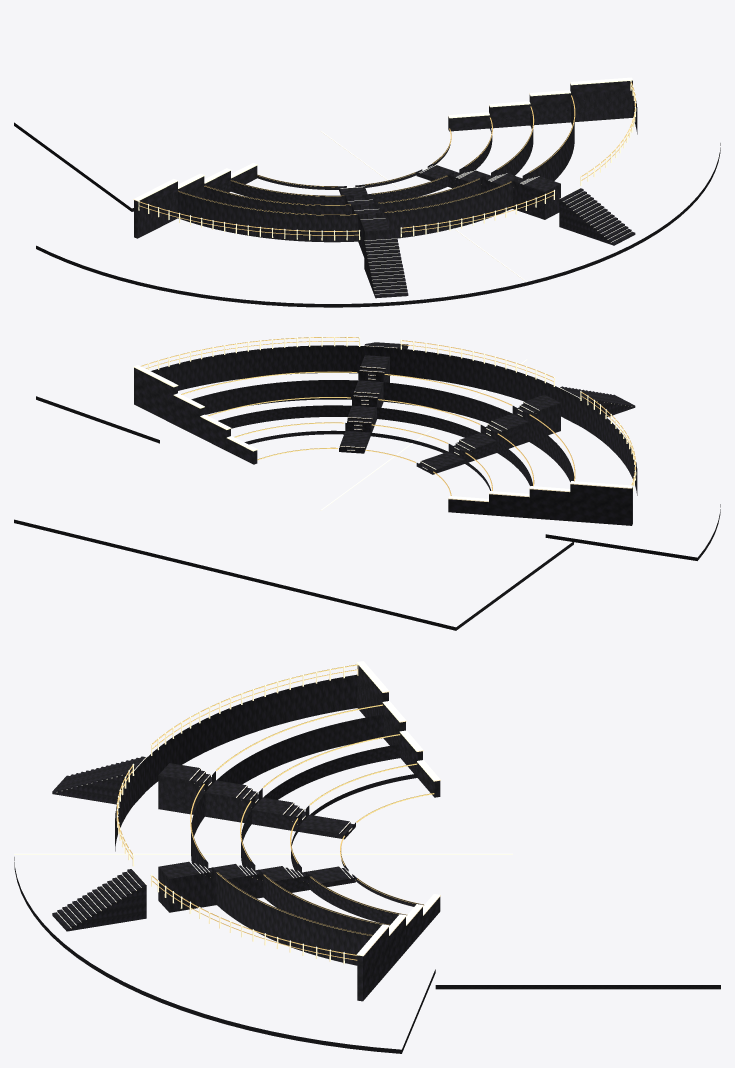
The model's file is mw_arena.glb.
The picture shows the model from 3 angles, top to bottom: view 1: azimuth 30°, elevation 25°; view 2: azimuth 150°, elevation 25°; view 3: azimuth 270°, elevation 25°; orthographic projection. The views are drawn at different scales.
Visible parts, largest first — view 1: arena; view 2: arena; view 3: arena.
Boxes of the visible parts, box(x1,y1,x2,y2) form: arena: box(14, 77, 720, 307); arena: box(14, 336, 720, 630); arena: box(14, 661, 720, 1053).
Bounding box in the file's own units: 77.8 × 4.68 × 59.5.
Materials: 6 (5 with a texture image).
